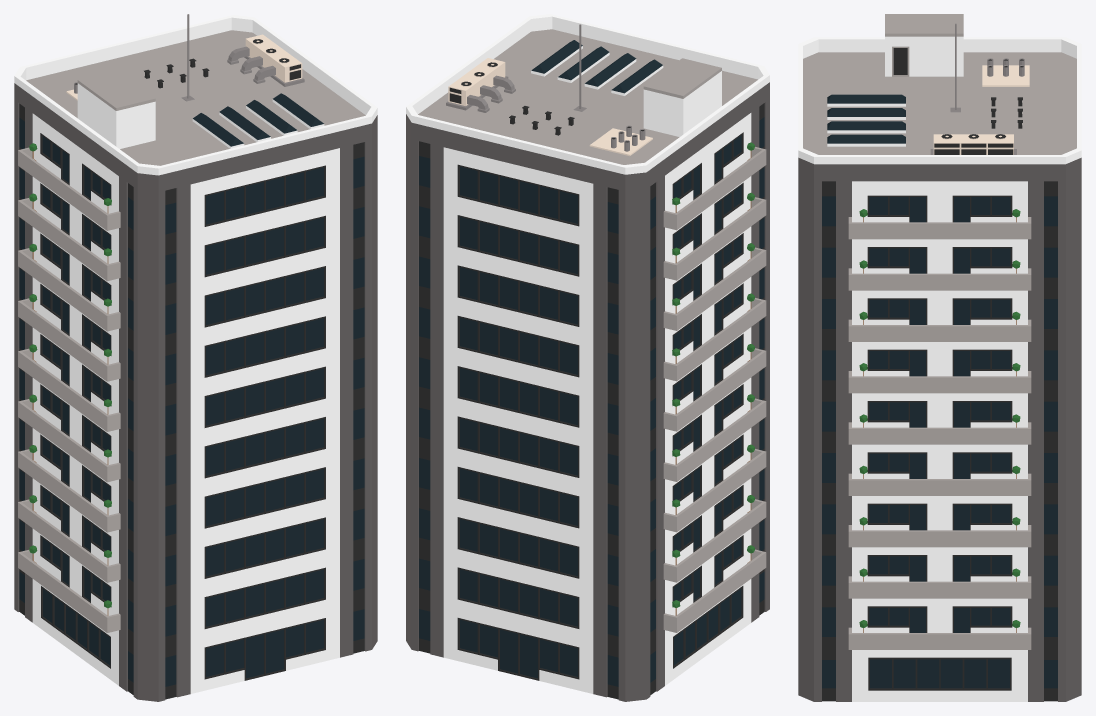
Rendered from building-office-balcony.glb.
3 views of the same model, side by side, from view 1: azimuth 30°, elevation 25°; view 2: azimuth 150°, elevation 25°; view 3: azimuth 270°, elevation 25° (orthographic). The views are drawn at different scales.
Parts seen in each view (by area): view 1: building-office-balcony; view 2: building-office-balcony; view 3: building-office-balcony.
Boxes of the visible parts, x1,y1,x2,y2 form: building-office-balcony: [14, 14, 377, 701]; building-office-balcony: [406, 14, 769, 701]; building-office-balcony: [798, 14, 1081, 701].
Bounding box in the file's own units: 20 × 43.33 × 18.
1 material, 1 textured.
